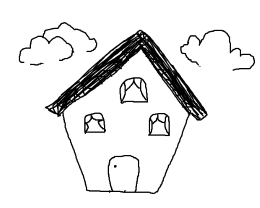clouds: (10, 17, 99, 72), (174, 27, 256, 81)
door: (105, 149, 147, 196)
open_window: (115, 74, 154, 109), (78, 108, 112, 144), (145, 110, 173, 143)
shaded_roof: (32, 27, 240, 125)
wall: (61, 89, 192, 194)
